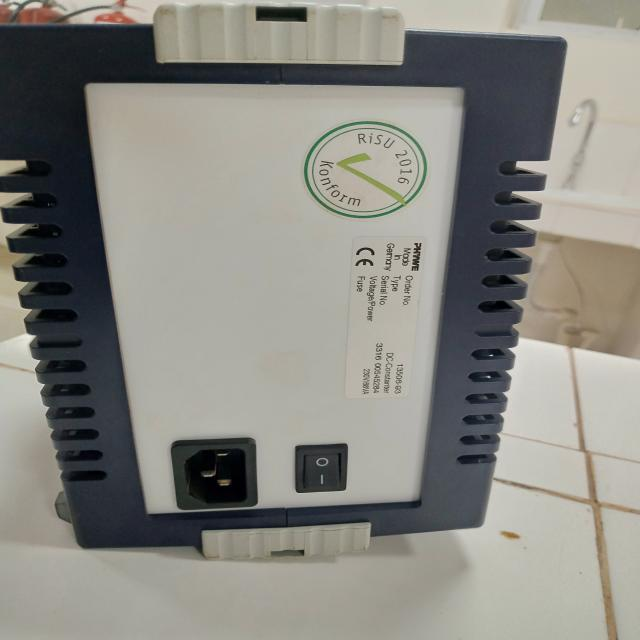DC Constant Power Supply 0-600V: (2, 26, 572, 562)
